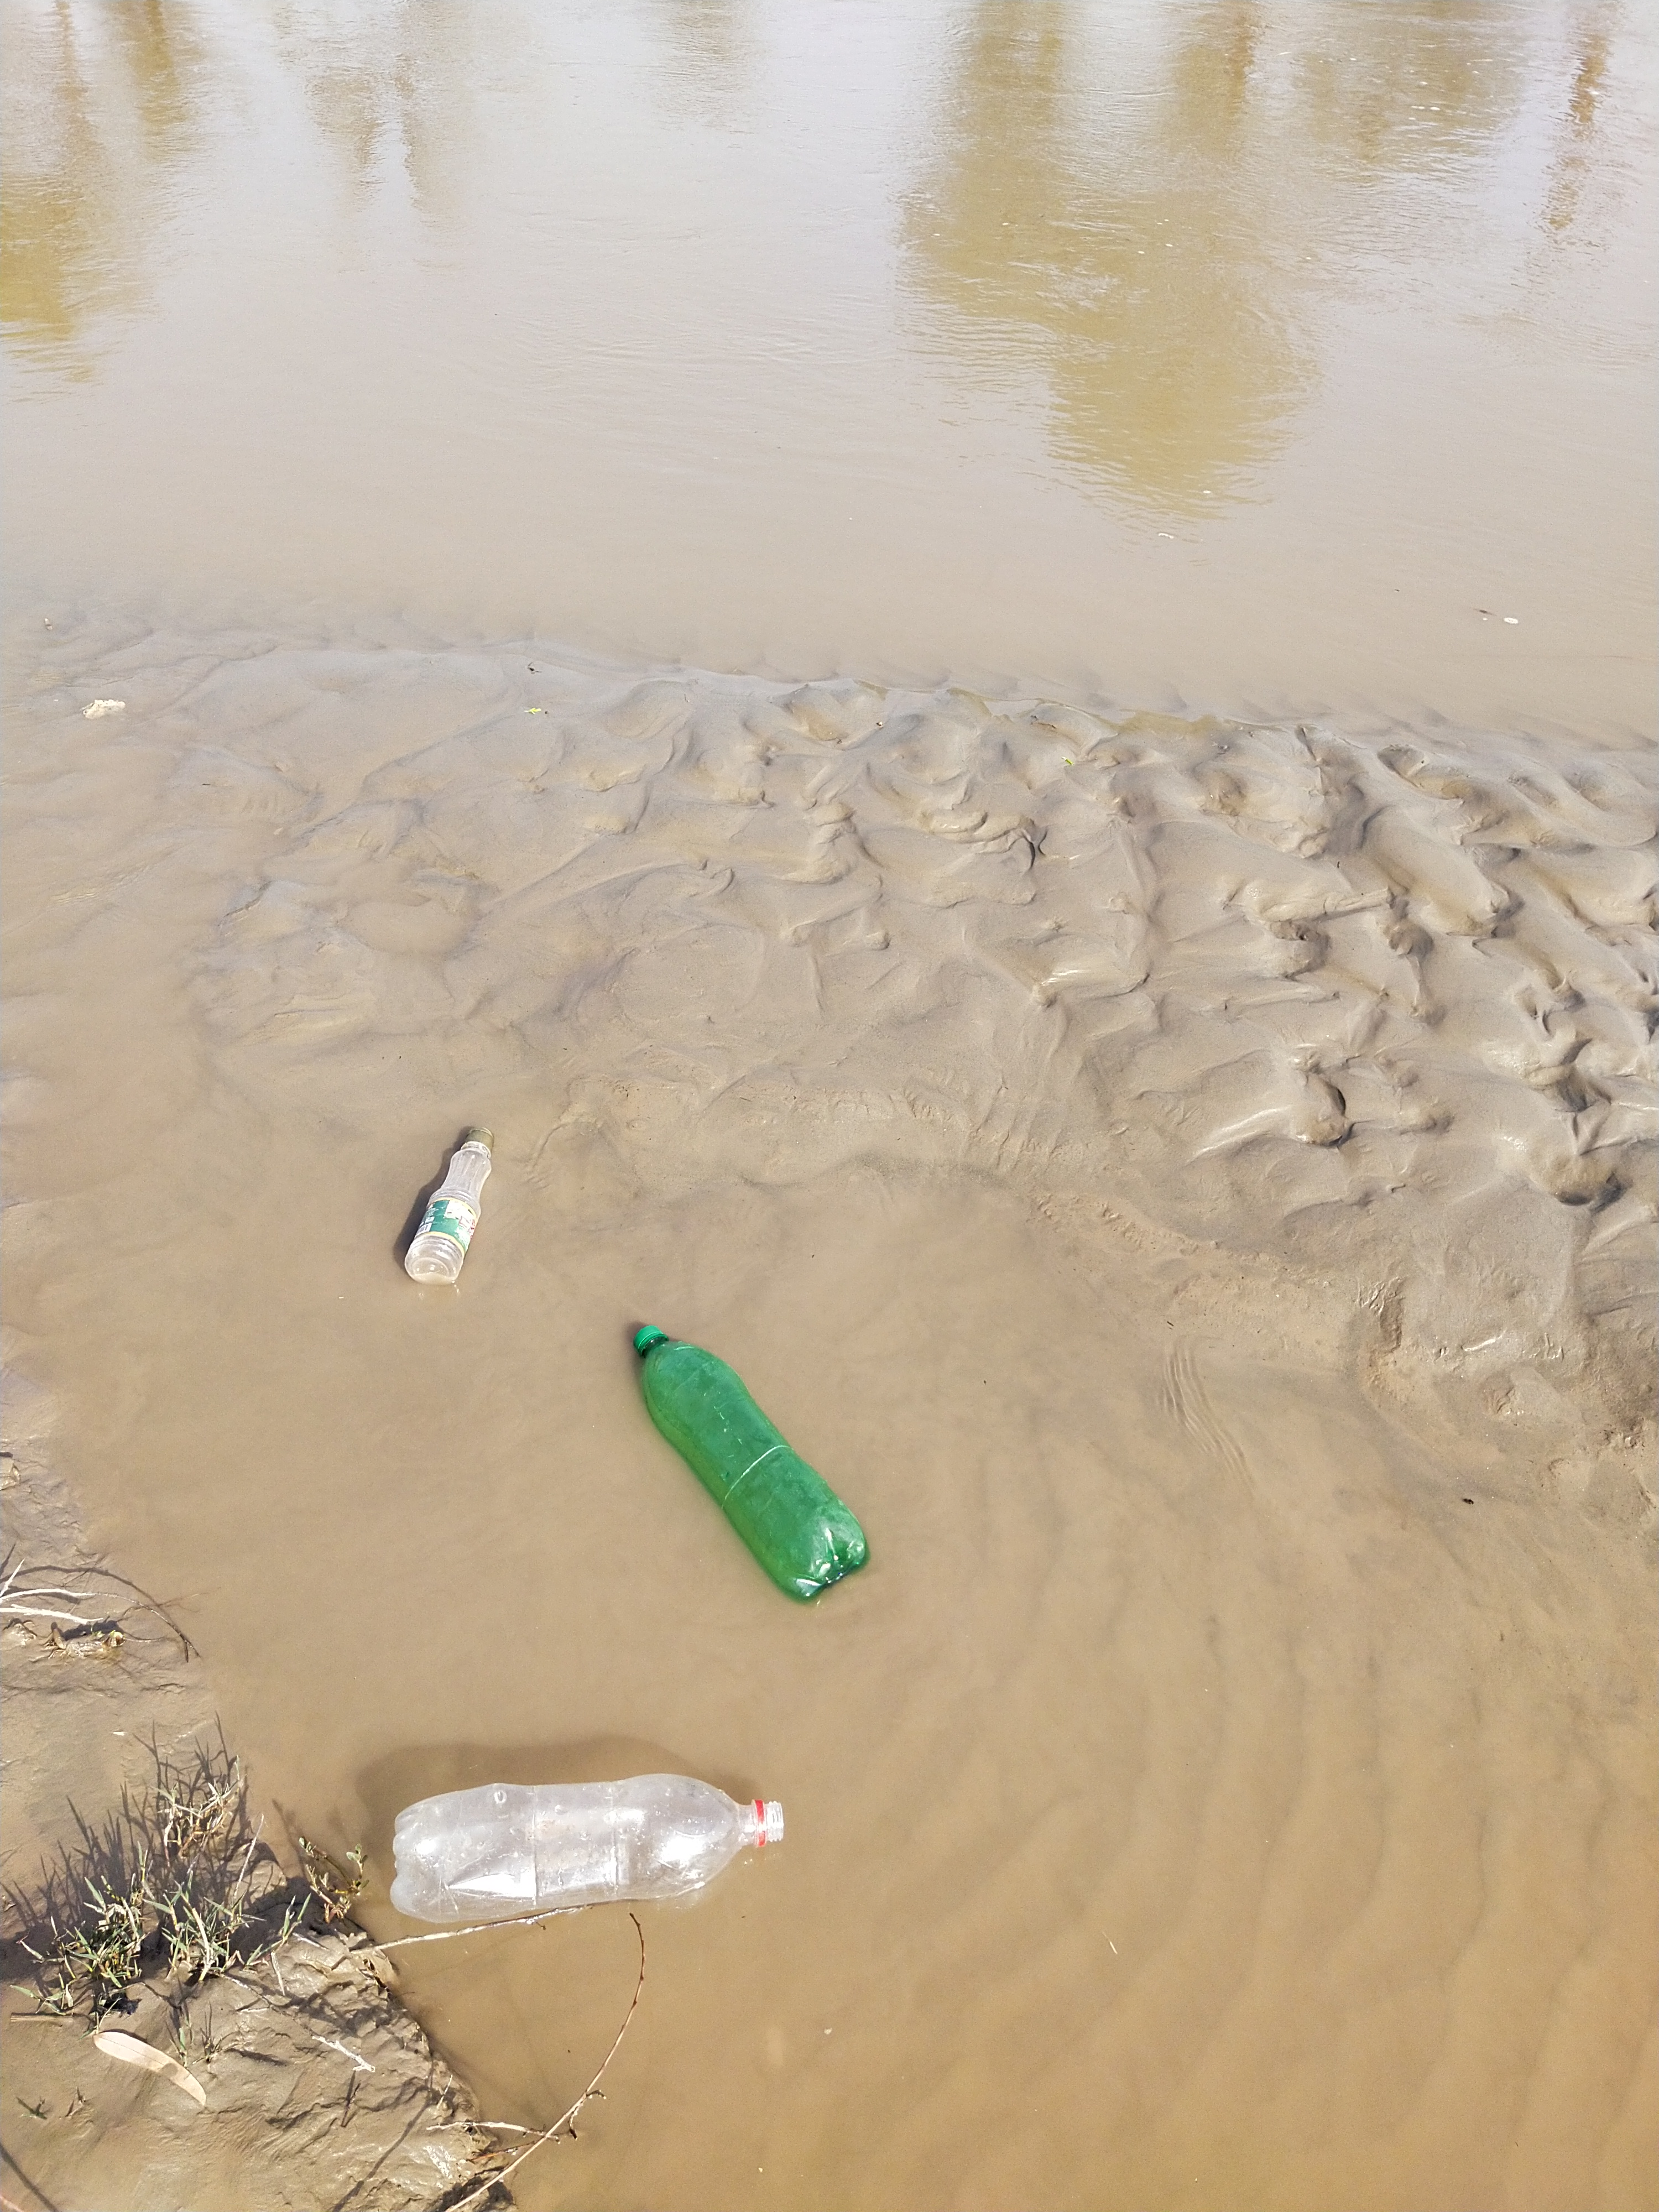Plastic Bottle: (633, 1325, 863, 1602), (390, 1773, 784, 1925), (404, 1125, 495, 1285)
